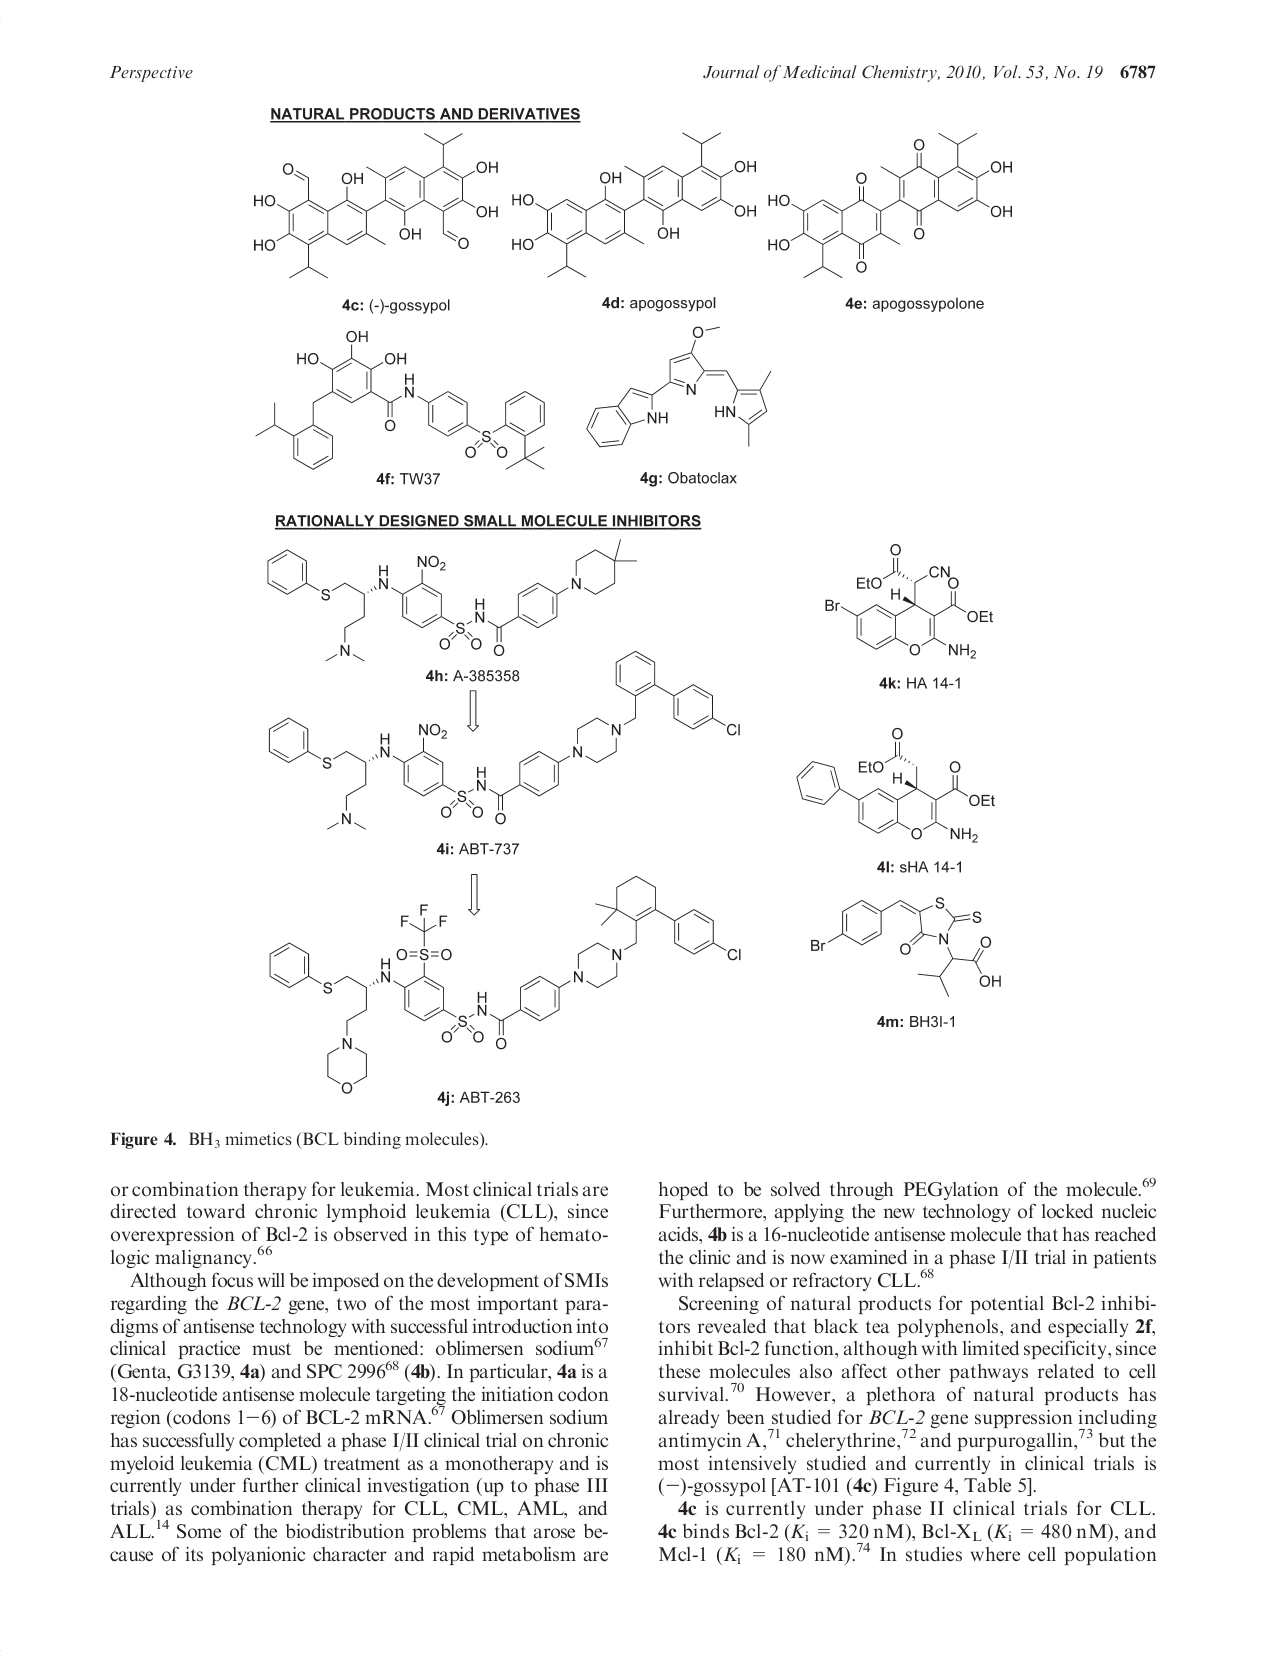exist_molecular: (266, 868, 743, 1093), (266, 649, 743, 835), (265, 537, 637, 668), (253, 321, 552, 473), (250, 121, 505, 285), (508, 118, 761, 281), (765, 128, 1019, 282), (582, 317, 774, 453), (795, 719, 999, 847), (818, 543, 1004, 664), (805, 892, 1016, 997)
